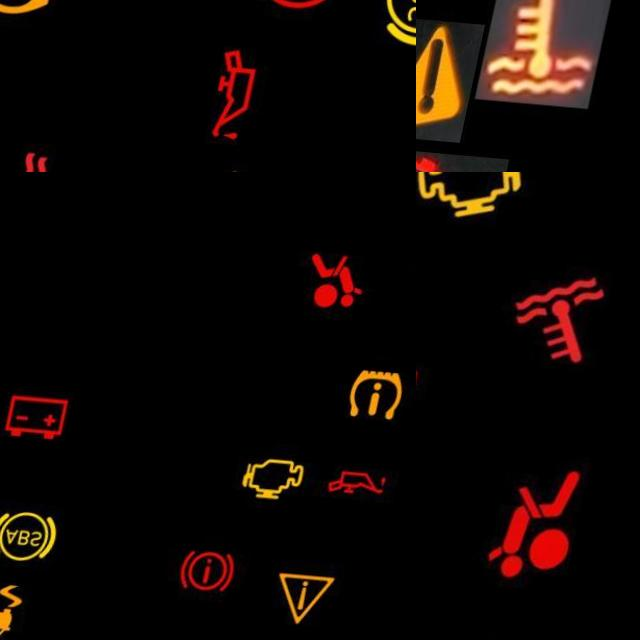Central Warning lamp: (416, 14, 498, 138)
Engine cooling system: (491, 0, 624, 102)
High Engine Coolant Temperature: (0, 130, 93, 172)
